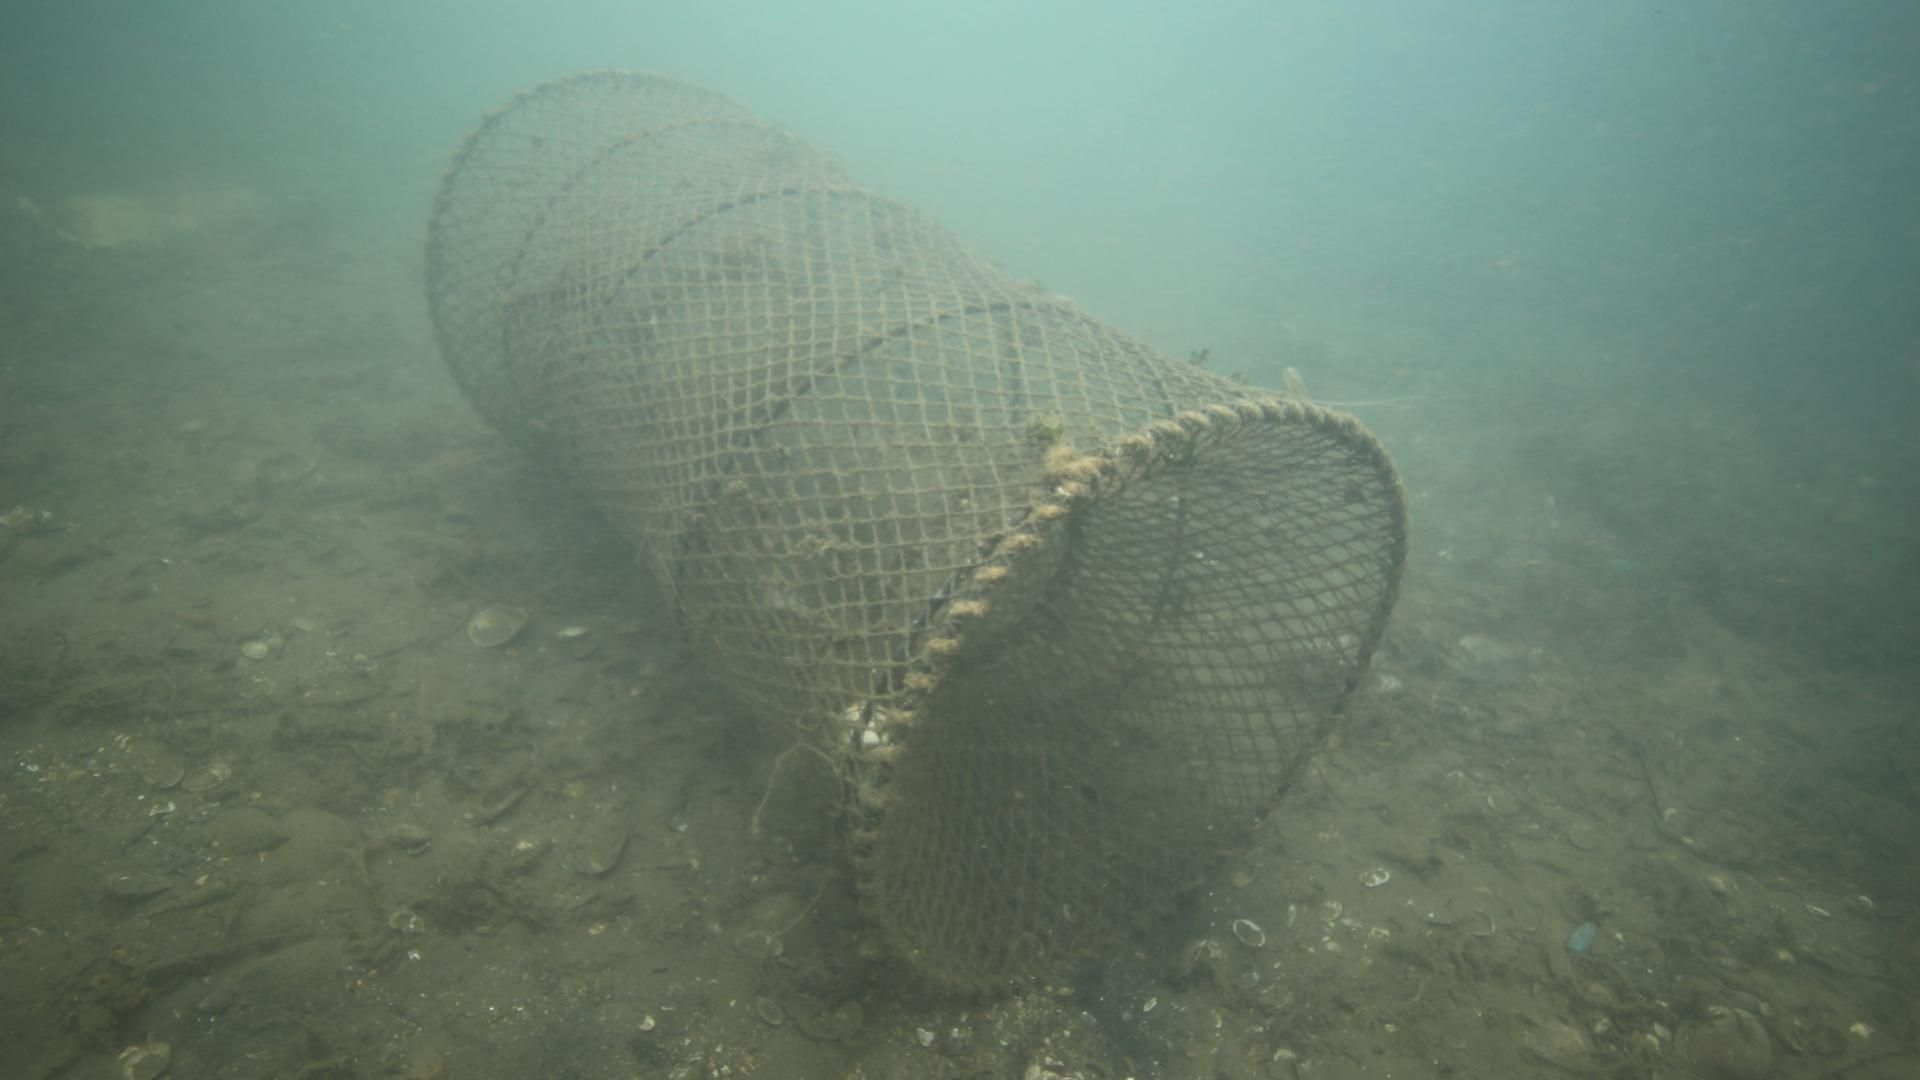spring fish trap: (418, 70, 1408, 1000)
